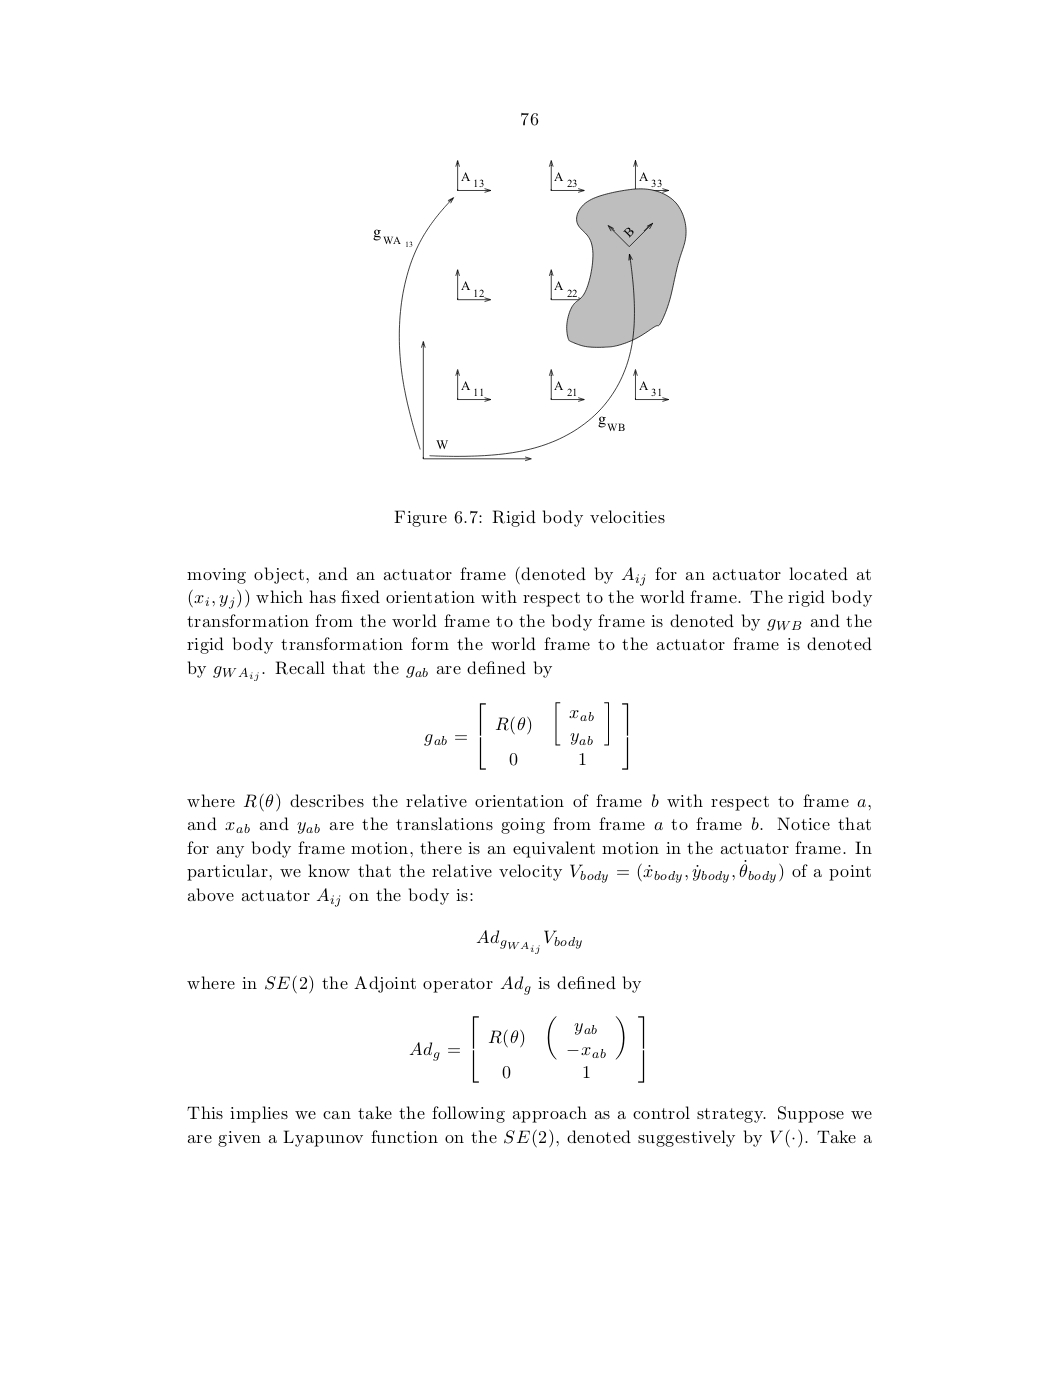figure: (373, 159, 687, 461)
formula: (409, 1015, 644, 1083), (424, 701, 627, 770), (476, 929, 581, 954)
